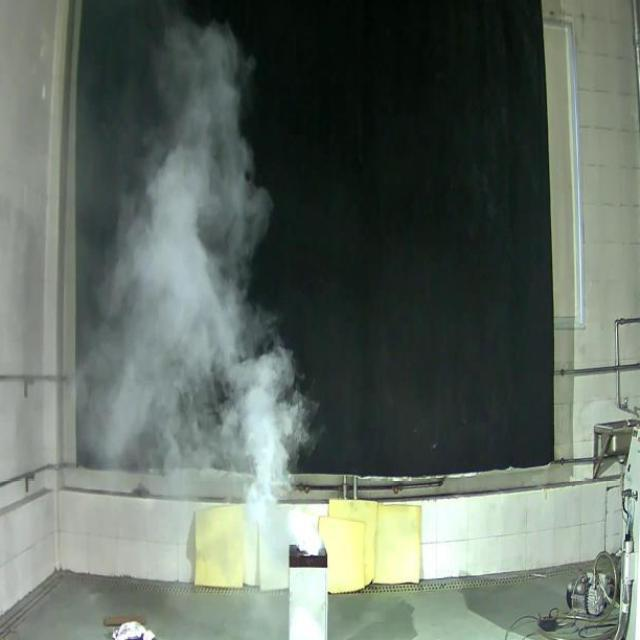fire: (88, 18, 269, 471), (224, 357, 320, 558)
